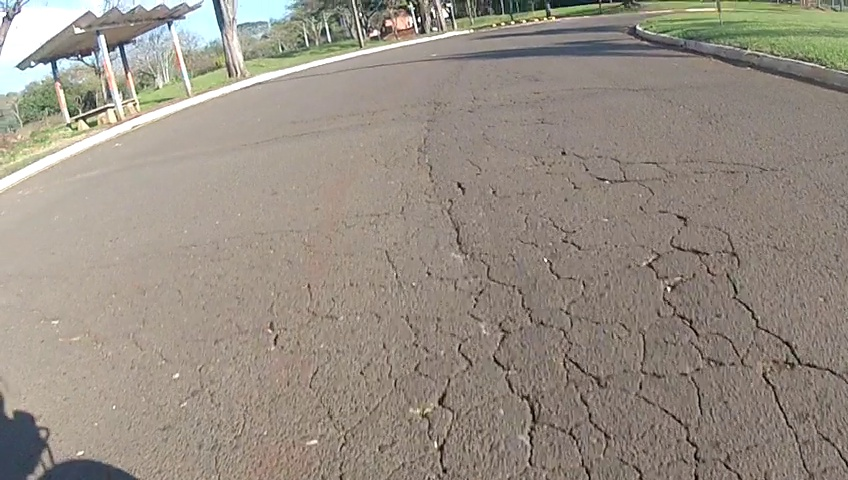trinca: (342, 135, 848, 480)
